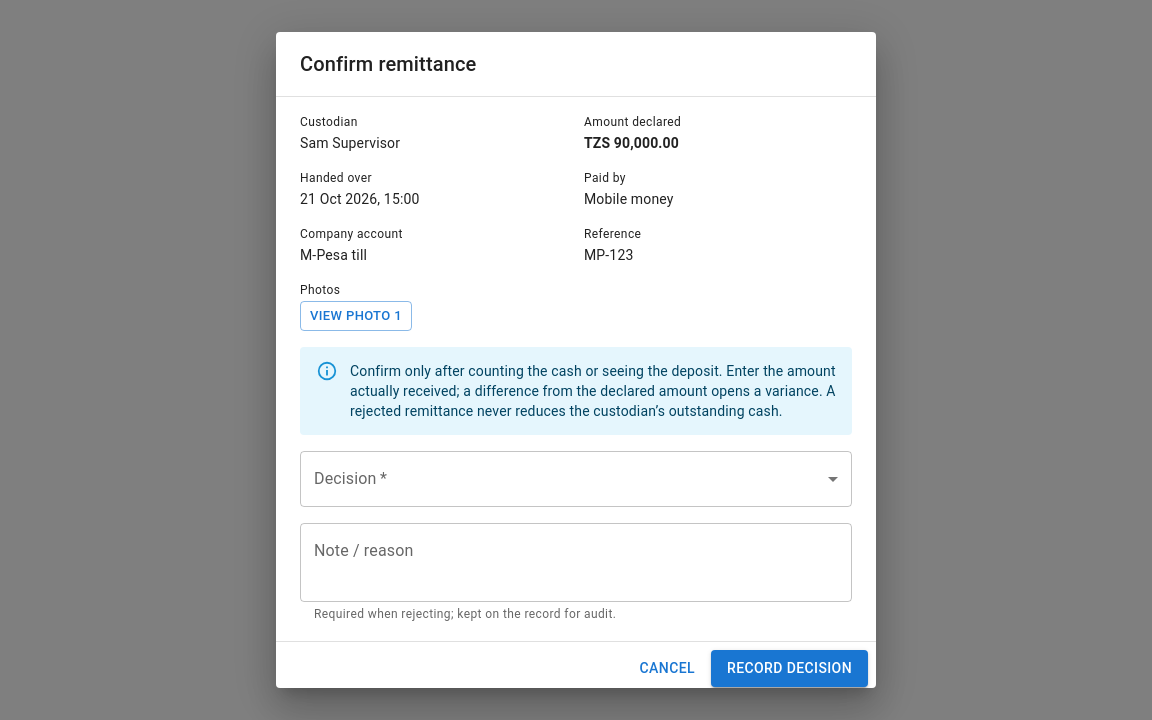
Test: RemittanceDecisionDialog › shows the account, reference and photos next to the amount received
This screenshot has width=1152, height=720.
Expected: the text "Mobile money" is shown, [584,191,674,207]
Expected: the text "M-Pesa till" is shown, [300,247,367,263]
Click the button "View photo 1" at (356, 316), box [300,301,412,332]
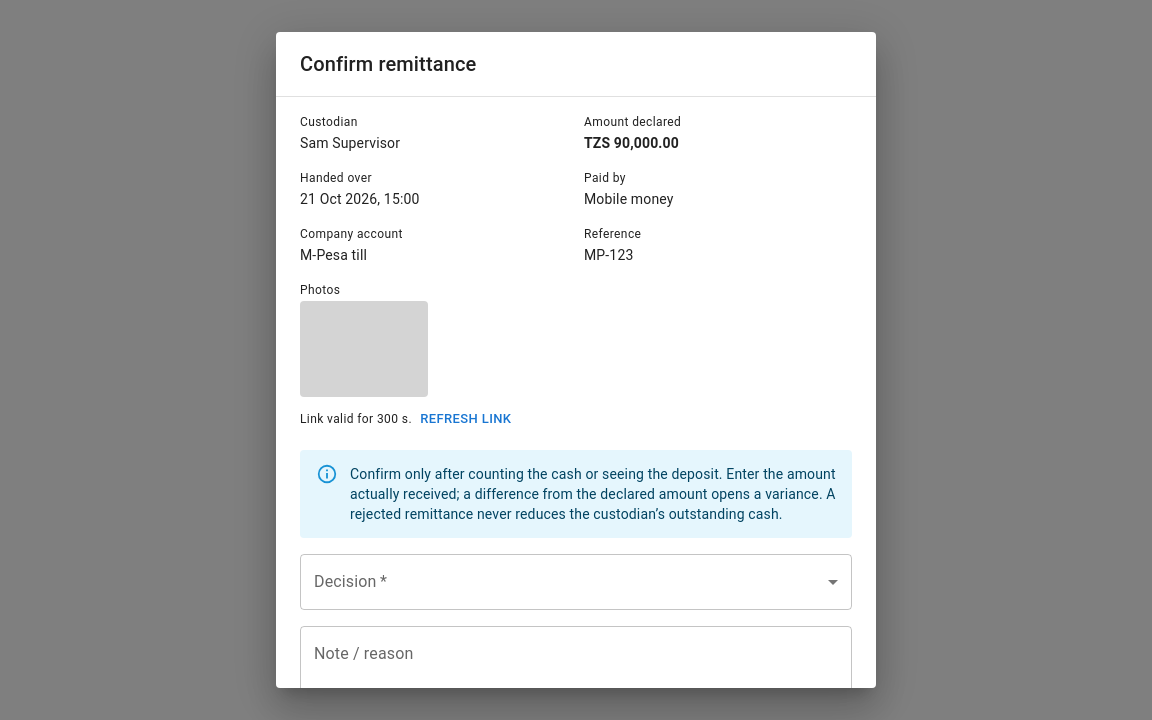
Click the dropdown named "Decision" at (576, 582), box [300,554,852,610]
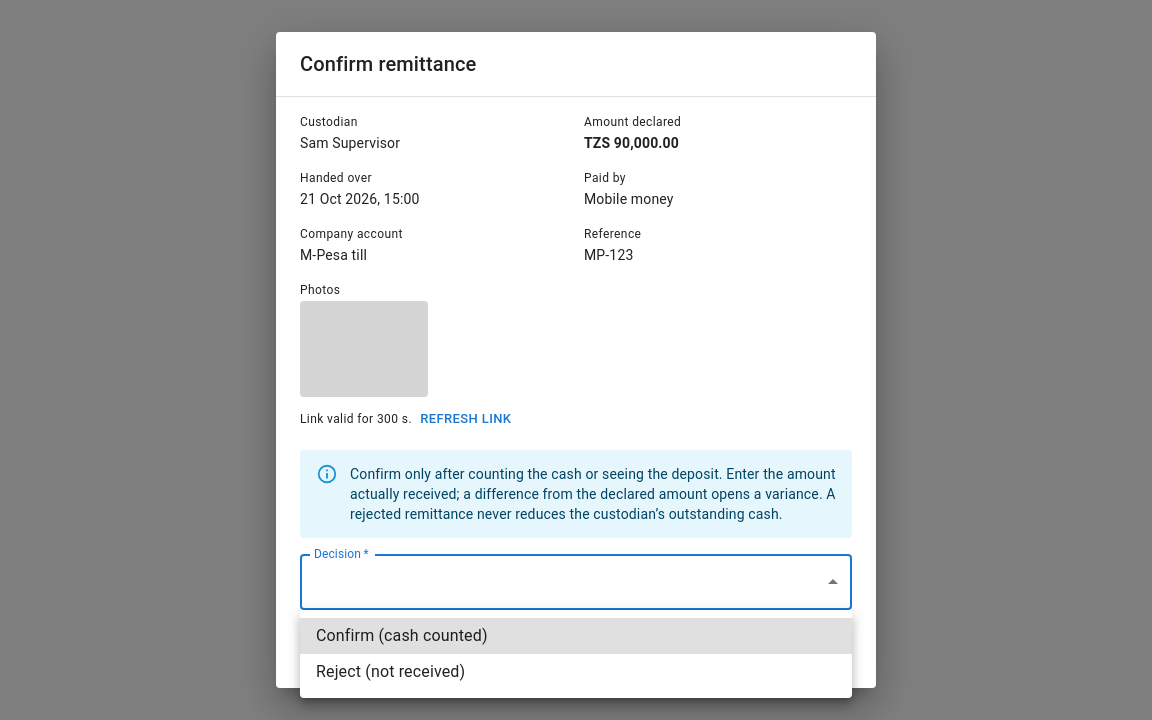
Click the option "Confirm (cash counted)" at (402, 636), box [300,618,852,654]
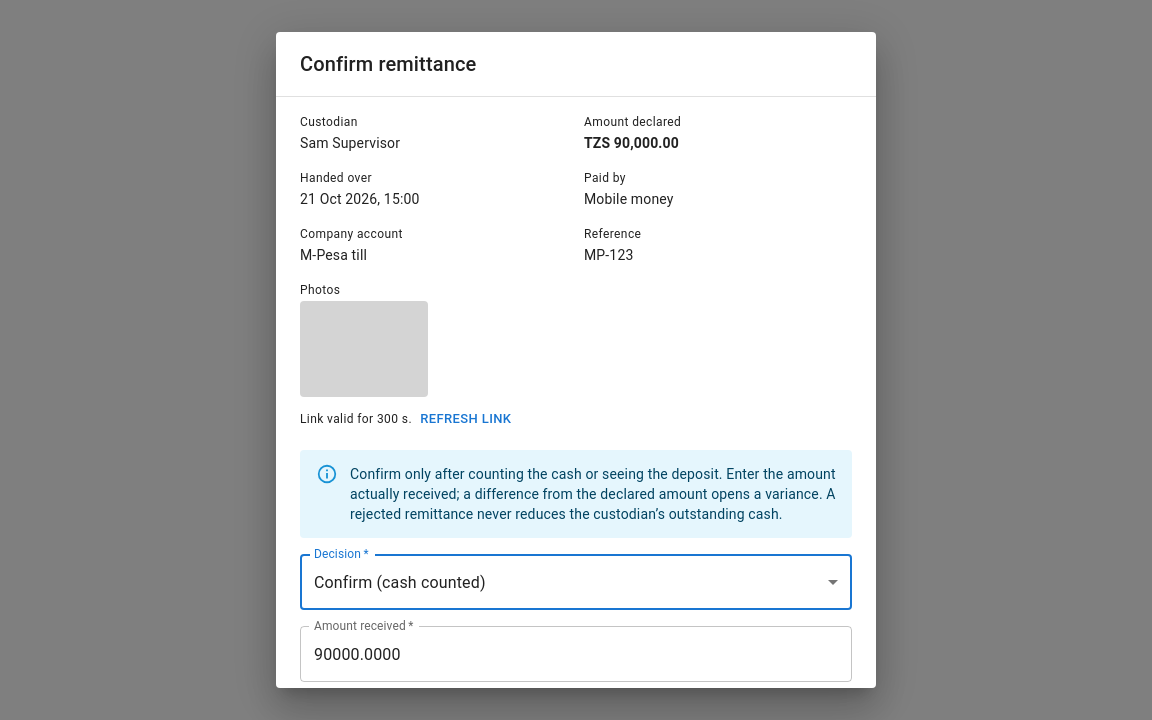
Expected: the field labelled "Amount received *" is shown, [300,626,852,682]
